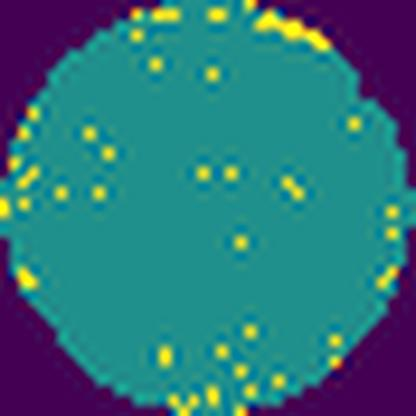Edge-Loc: (254, 10, 335, 55)
